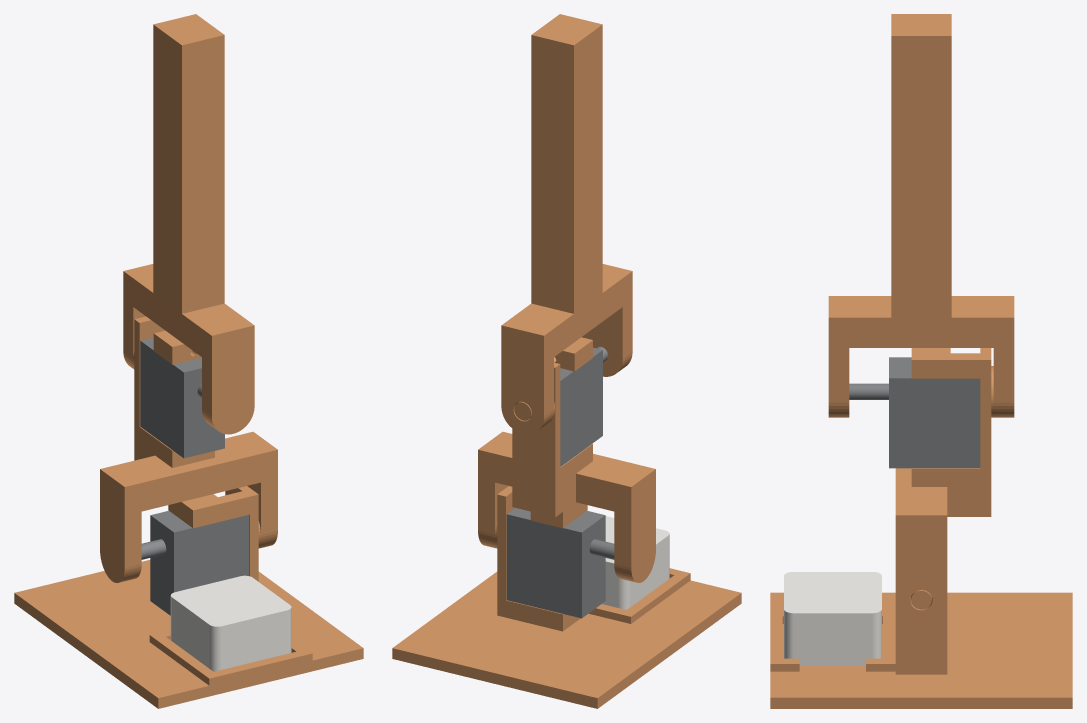
The model's file is pico.glb.
3 renders of one model, left to right at view 1: azimuth 30°, elevation 25°; view 2: azimuth 150°, elevation 25°; view 3: azimuth 270°, elevation 25°, orthographic. The views are drawn at different scales.
Visible parts, largest first — view 1: arm2, foot, arm1, ATOM, servo1, servo2; view 2: arm2, foot, arm1, servo1, servo2, ATOM; view 3: arm2, foot, arm1, servo2, ATOM.
Boxes of the visible parts, x1,y1,x2,y2 form: arm2: (123, 14, 254, 434); foot: (14, 486, 363, 708); arm1: (100, 316, 277, 582); ATOM: (170, 575, 291, 671); servo1: (141, 510, 249, 615); servo2: (140, 337, 224, 458); arm2: (501, 14, 632, 434); foot: (392, 486, 741, 708); arm1: (478, 337, 655, 582); servo1: (506, 508, 614, 618); servo2: (560, 346, 608, 466); ATOM: (602, 516, 669, 609); arm2: (828, 14, 1014, 417); foot: (770, 590, 1072, 708); arm1: (895, 348, 993, 623); servo2: (849, 357, 980, 468); ATOM: (784, 572, 881, 665).
Bounding box in the file's own units: 0.06 × 0.168 × 0.0729.
